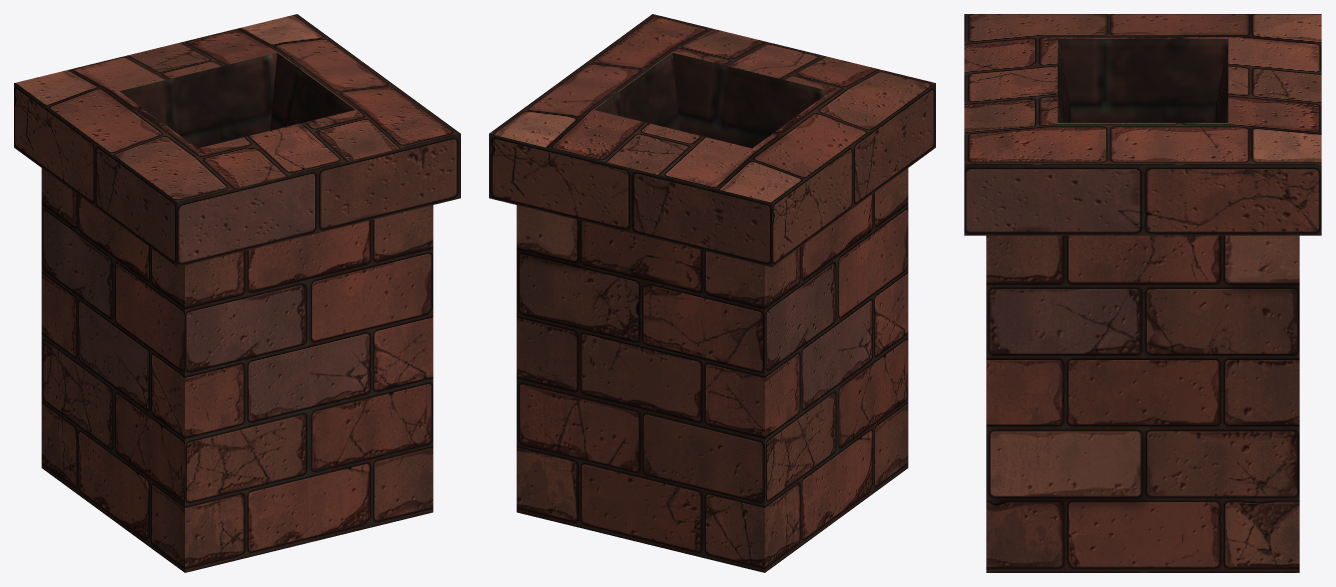
The model's file is chimney_roof01.fbx.
3 renders of one model, left to right at view 1: azimuth 30°, elevation 25°; view 2: azimuth 150°, elevation 25°; view 3: azimuth 270°, elevation 25°, orthographic. The views are drawn at different scales.
Visible parts, largest first — view 1: chimney_roof01; view 2: chimney_roof01; view 3: chimney_roof01.
Boxes of the visible parts, box(x1,y1,x2,y2) form: chimney_roof01: box(14, 14, 460, 572); chimney_roof01: box(489, 14, 935, 572); chimney_roof01: box(964, 14, 1321, 572).
Bounding box in the file's own units: 114 × 150 × 114.
